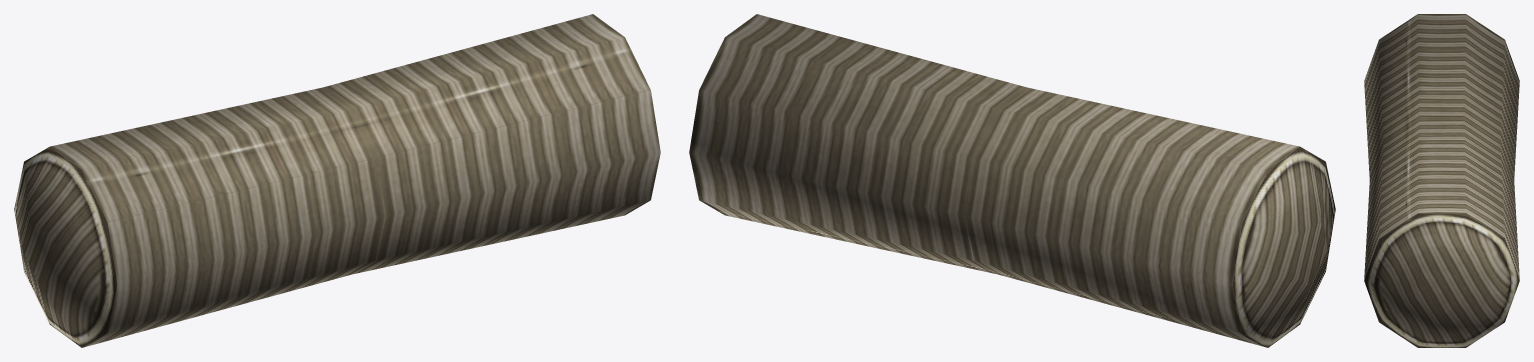
The model's file is Bed02Pillow03.FBX.
3 views of the same model, side by side, from view 1: azimuth 30°, elevation 25°; view 2: azimuth 150°, elevation 25°; view 3: azimuth 270°, elevation 25° (orthographic). The views are drawn at different scales.
Visible parts, largest first — view 1: Bed02Pillow03; view 2: Bed02Pillow03; view 3: Bed02Pillow03.
Boxes of the visible parts, x1,y1,x2,y2 form: Bed02Pillow03: (14, 14, 660, 347); Bed02Pillow03: (689, 14, 1335, 347); Bed02Pillow03: (1364, 14, 1519, 347).
Bounding box in the file's own units: 80.28 × 24.15 × 22.97.
